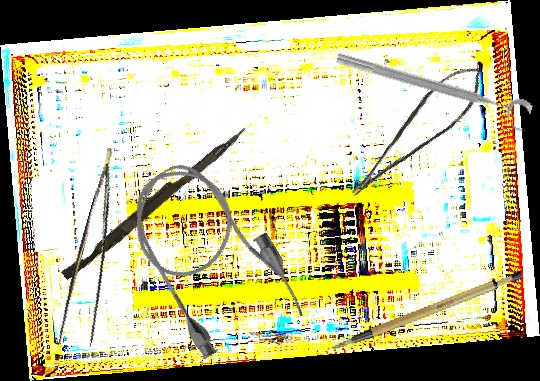Cannula: (110, 142, 313, 371)
Fixation Ring: (331, 46, 534, 136)
Micro Scissor: (329, 56, 499, 202)
Pusher: (60, 119, 249, 286)
Scalpel Handle: (324, 267, 529, 352)
Tissue Forceps: (51, 147, 145, 356)
